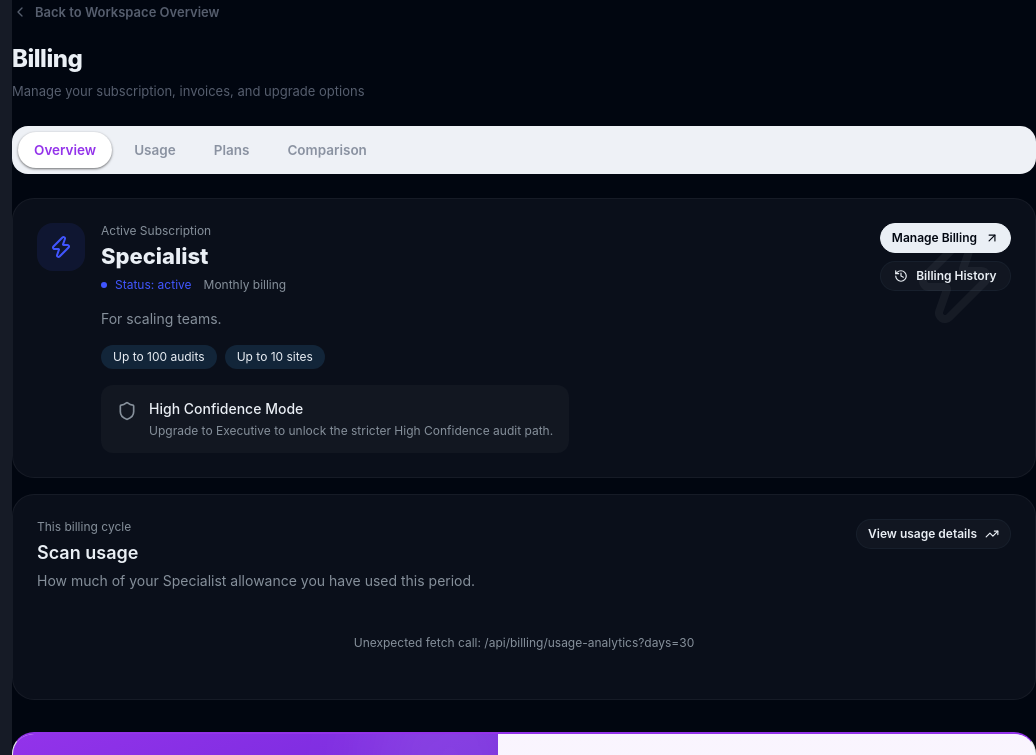
Scenario: BillingPage › uses clear commercial copy instead of internal jargon
The width and height of the screenshot is (1036, 755).
Check: the button "Manage Billing" is shown, box [880,222,1011,252]
Check: the heading "Billing" is shown, box [12,44,82,73]
Step 1. Click the tab "Plans" → (232, 150), box [198,132,265,168]
(page scrolled)
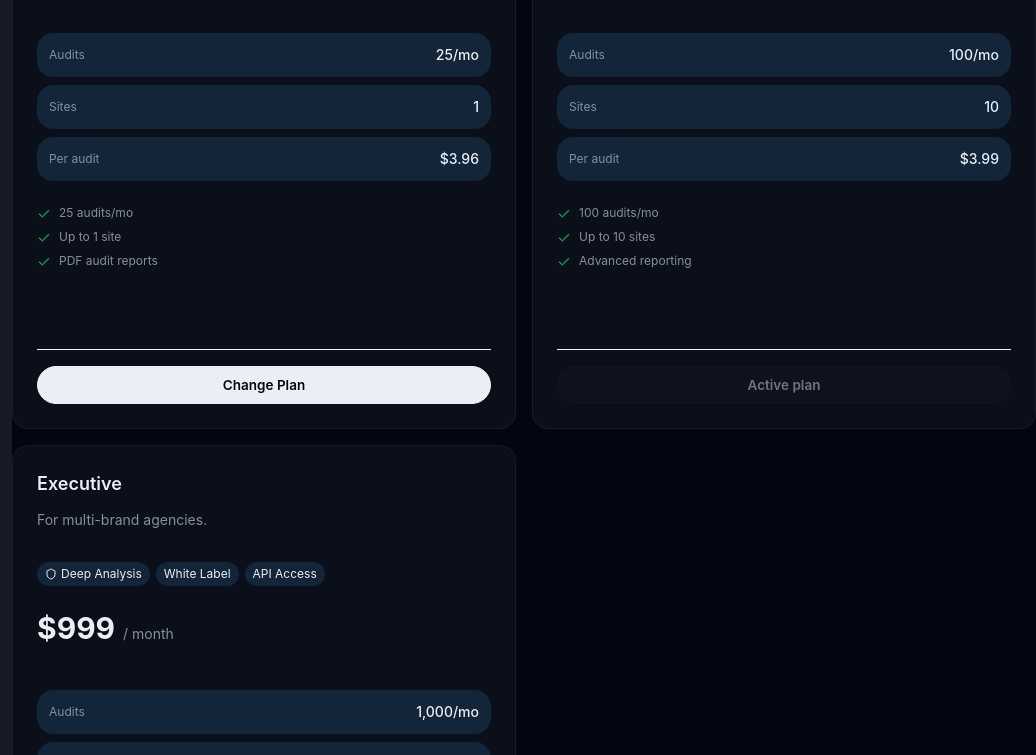
Check: the button "Change Plan" is shown, box [37,366,491,404]
